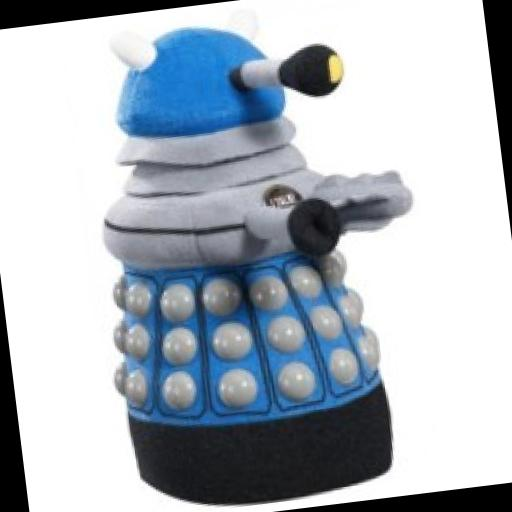dalek: (51, 0, 447, 512)
